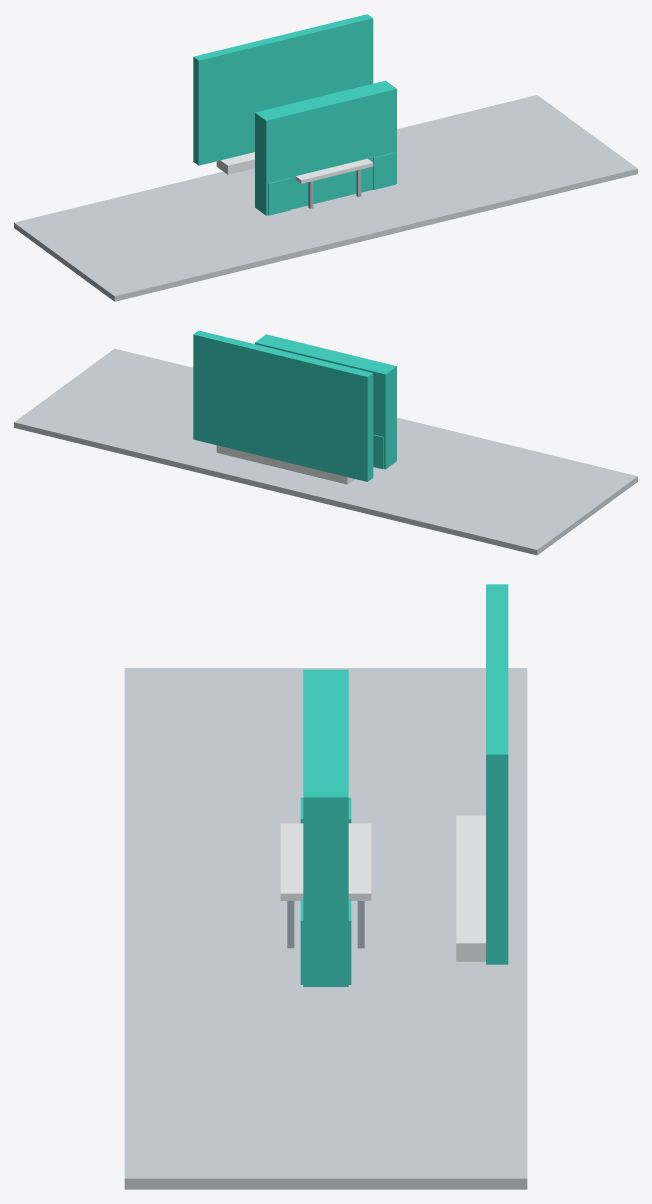
3 renders of one model, top to bottom at view 1: azimuth 30°, elevation 25°; view 2: azimuth 150°, elevation 25°; view 3: azimuth 270°, elevation 25°, orthographic. The views are drawn at different scales.
Visible parts, largest first — view 1: Exhibition Booth Concept; view 2: Exhibition Booth Concept; view 3: Exhibition Booth Concept.
Part boxes in pixels (x1,y1,x2,y2): Exhibition Booth Concept: [14, 14, 637, 301]; Exhibition Booth Concept: [14, 330, 637, 555]; Exhibition Booth Concept: [124, 584, 527, 1189].
Size of the model in its own units: 12 by 2.9 by 4.
